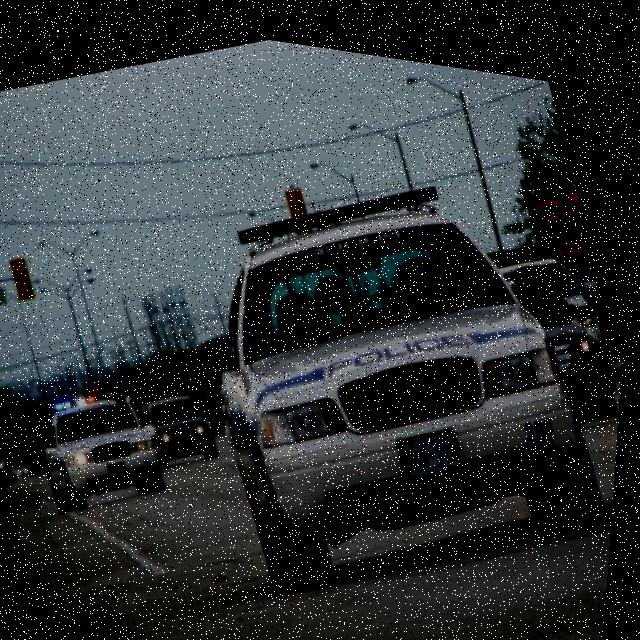license_plate: (402, 410, 470, 472), (112, 452, 135, 474), (185, 431, 200, 444)
